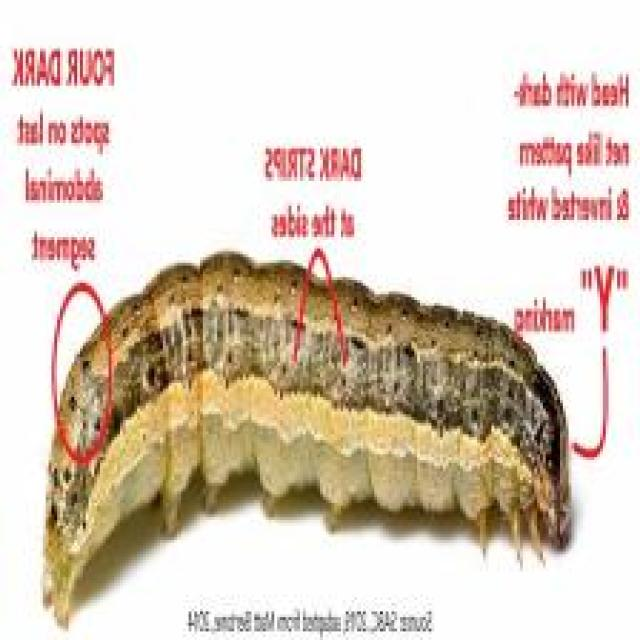Plaga: (28, 232, 585, 640)
